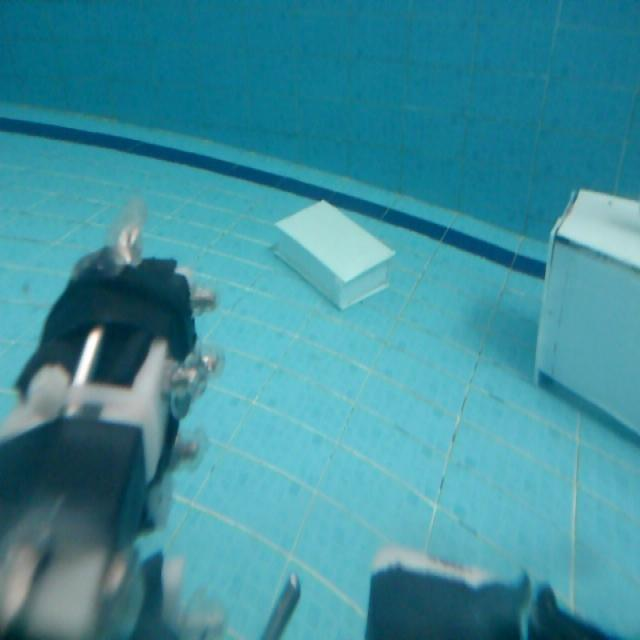Cube: (524, 180, 640, 446)
Cuboid: (271, 194, 396, 310)
